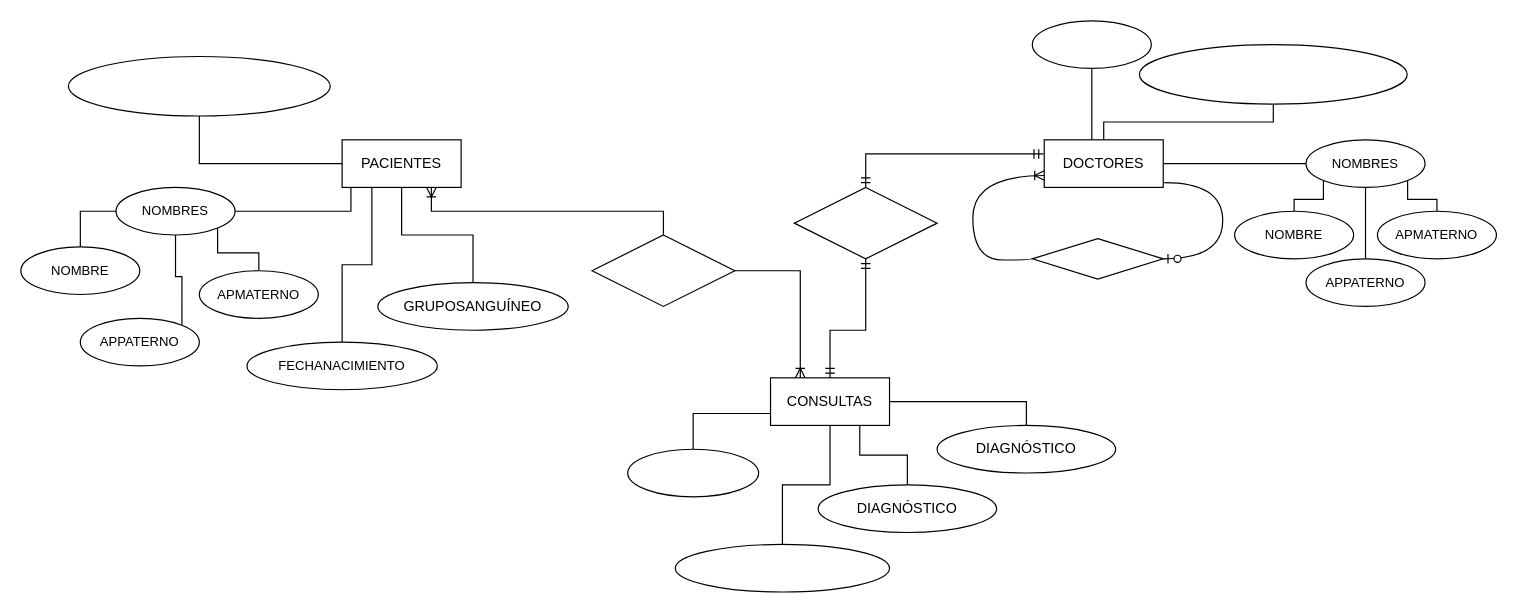
This 1517x613 diagram has some shape labels left out. The shapes that lost their labels are listed below. From the top down, each one's box as (x1, y1, x2, y2) in pixels, then its label:
(1031, 20, 1151, 68): ESPECIALIDAD
(67, 55, 330, 116): NÚMERO_HISTORIA_CLÍNICA
(1138, 43, 1407, 104): NÚMERO_COLEGIARTURA
(793, 186, 937, 259): ATIENDE
(591, 234, 735, 306): TIENE
(1031, 237, 1163, 279): ESJEFEDE
(627, 448, 759, 497): ID_CONSULTA
(674, 543, 890, 592): FECHADIAGNÓSTICO
